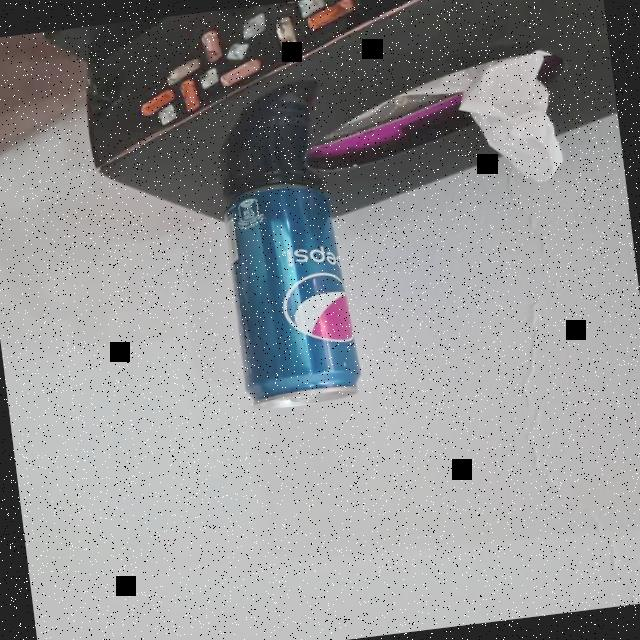can: (208, 179, 375, 420)
